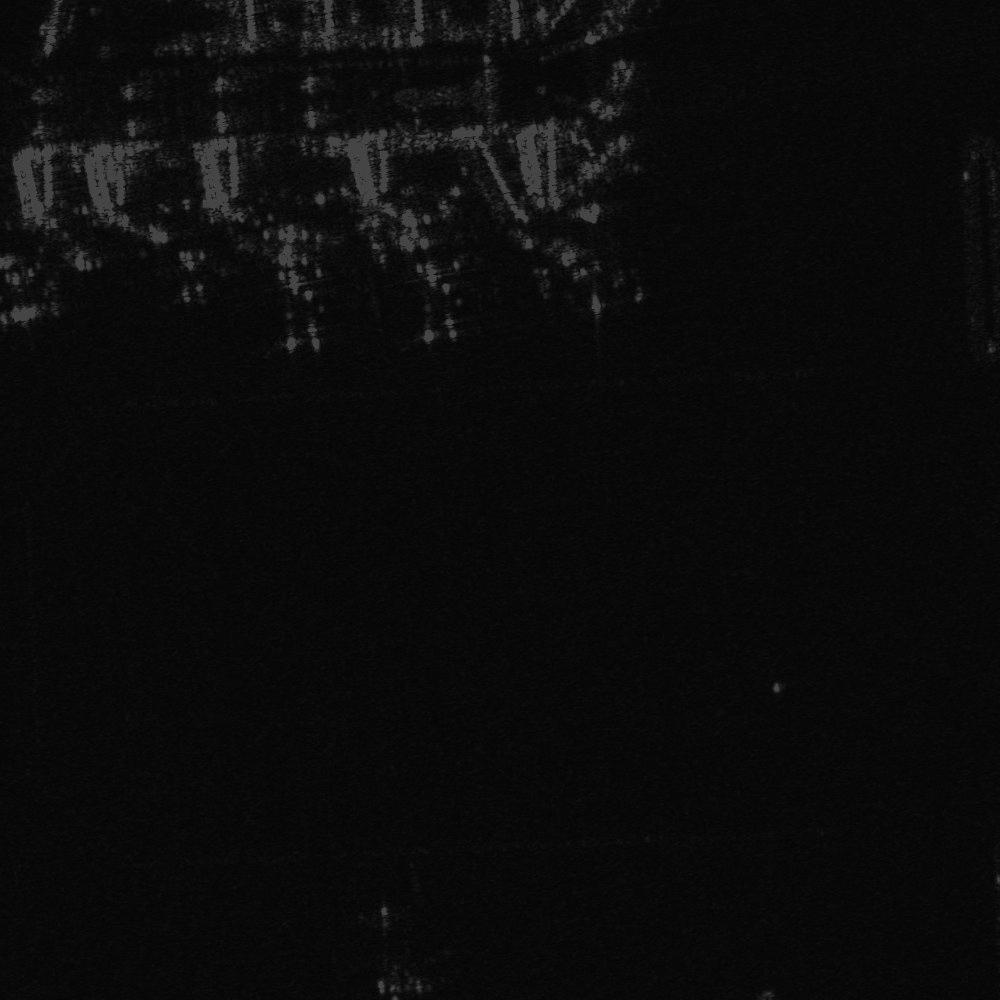A220: (150, 241, 231, 310)
Boeing737: (523, 229, 637, 329)
Boeing787: (238, 237, 348, 360)
other: (389, 226, 489, 345)
